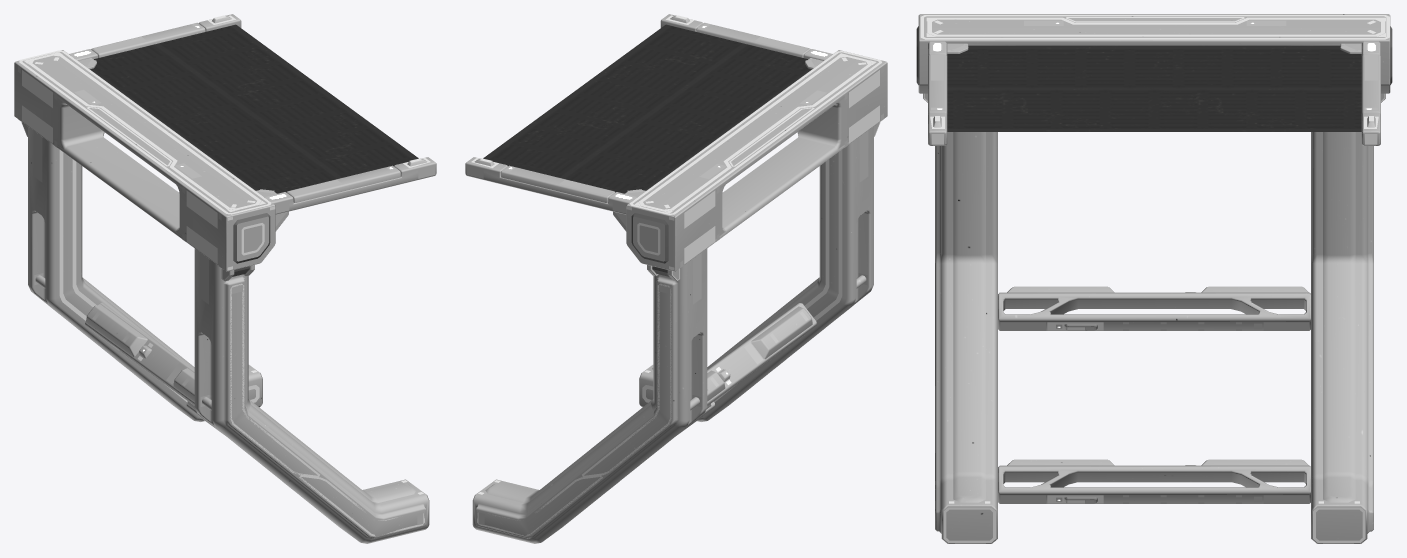
The model's file is SM_Platform_1_Merged.fbx.
3 views of the same model, side by side, from view 1: azimuth 30°, elevation 25°; view 2: azimuth 150°, elevation 25°; view 3: azimuth 270°, elevation 25° (orthographic). The views are drawn at different scales.
Parts seen in each view (by area): view 1: SM_Platform_1_Merged_LOD0; view 2: SM_Platform_1_Merged_LOD0; view 3: SM_Platform_1_Merged_LOD0.
Boxes of the visible parts, x1,y1,x2,y2 form: SM_Platform_1_Merged_LOD0: [14, 14, 436, 543]; SM_Platform_1_Merged_LOD0: [465, 14, 887, 543]; SM_Platform_1_Merged_LOD0: [916, 14, 1392, 543].
Size of the model in its own units: 120 by 206 by 199.
